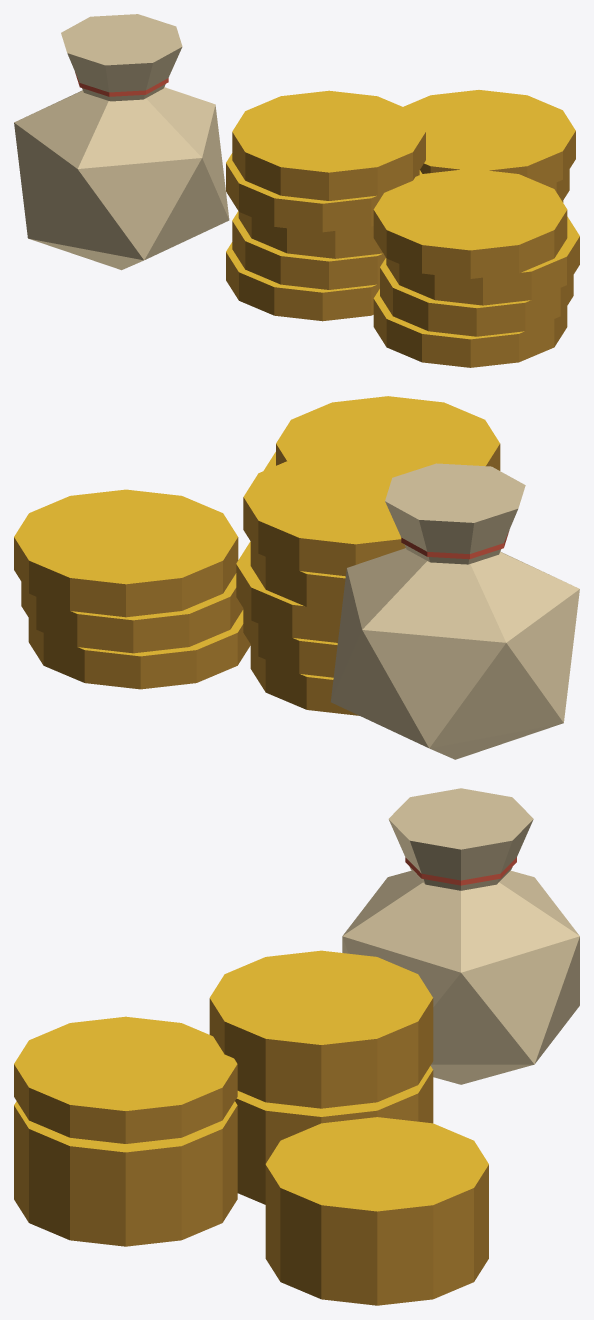
The model's file is prop_coins_m.fbx.
3 renders of one model, top to bottom at view 1: azimuth 30°, elevation 25°; view 2: azimuth 150°, elevation 25°; view 3: azimuth 270°, elevation 25°, orthographic. The views are drawn at different scales.
Visible parts, largest first — view 1: prop_coins_m; view 2: prop_coins_m; view 3: prop_coins_m.
Part boxes in pixels (x1,y1,x2,y2): prop_coins_m: (14,14,579,367); prop_coins_m: (14,396,579,759); prop_coins_m: (14,788,579,1305).
Size of the model in its own units: 0.2853 by 0.126 by 0.243.
